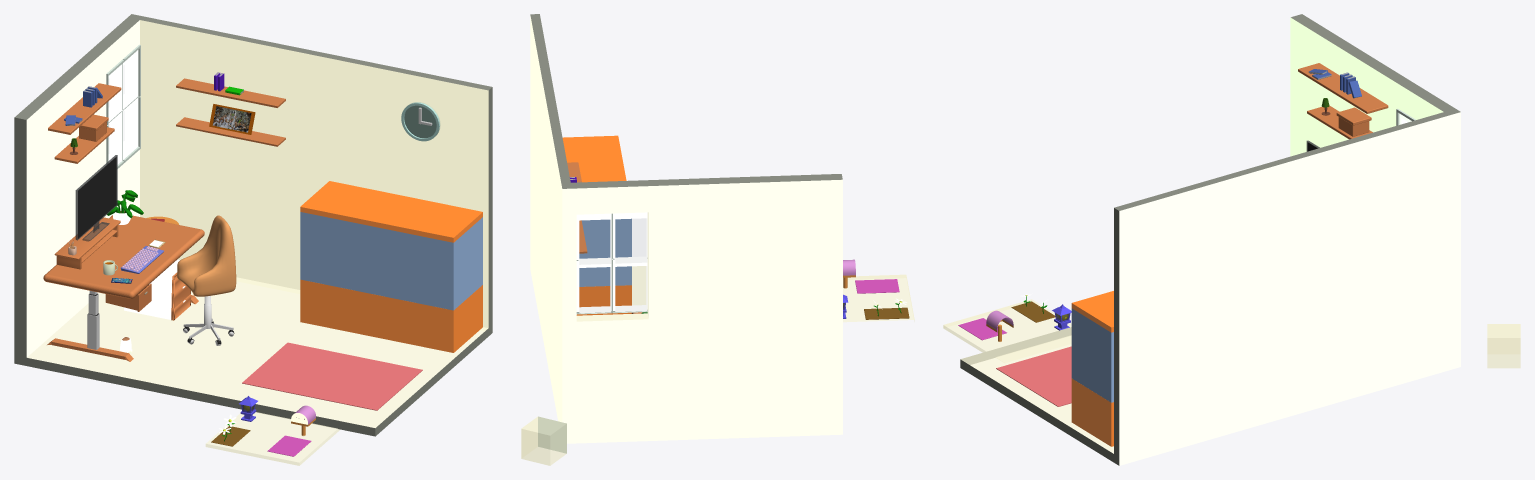
The model's file is FinalFinalRoom1.glb.
3 renders of one model, left to right at view 1: azimuth 30°, elevation 25°; view 2: azimuth 150°, elevation 25°; view 3: azimuth 270°, elevation 25°, orthographic. The views are drawn at different scales.
Visible parts, largest first — view 1: Wall, Aquarium box, Aquarium water, Floor items, Desks, Shlefs, Extra Floor, Desk stuff, Chair sit, computer screen, Clock, Ground; view 2: Wall, Aquarium box, Aquarium water, Extra Floor, Cube, Ground, Shlefs; view 3: Wall, Extra Floor, Shlefs, Aquarium water, Aquarium box, Floor items, Cube, Ground.
Part boxes in pixels (left/top/right/bottom): Wall: left=14, top=14, right=492, bottom=436; Aquarium box: left=300, top=181, right=482, bottom=352; Aquarium water: left=300, top=212, right=482, bottom=310; Floor items: left=120, top=259, right=422, bottom=410; Desks: left=43, top=215, right=204, bottom=361; Shlefs: left=48, top=72, right=285, bottom=163; Extra Floor: left=205, top=396, right=340, bottom=465; Desk stuff: left=54, top=190, right=165, bottom=283; Chair sit: left=177, top=215, right=236, bottom=296; computer screen: left=75, top=155, right=117, bottom=241; Clock: left=401, top=102, right=440, bottom=141; Ground: left=211, top=426, right=311, bottom=456; Wall: left=530, top=14, right=842, bottom=443; Aquarium box: left=562, top=135, right=631, bottom=315; Aquarium water: left=579, top=218, right=631, bottom=286; Extra Floor: left=843, top=274, right=914, bottom=322; Cube: left=521, top=416, right=566, bottom=465; Ground: left=855, top=279, right=909, bottom=319; Shlefs: left=567, top=162, right=587, bottom=253; Wall: left=960, top=14, right=1460, bottom=465; Extra Floor: left=943, top=293, right=1071, bottom=362; Shlefs: left=1298, top=63, right=1388, bottom=139; Aquarium water: left=1071, top=308, right=1113, bottom=402; Aquarium box: left=1071, top=291, right=1113, bottom=446; Floor items: left=996, top=346, right=1071, bottom=406; Cube: left=1487, top=324, right=1520, bottom=368; Ground: left=958, top=301, right=1055, bottom=340.
Bounding box in the file's own units: 15.58 × 9.5 × 19.29.
56 materials, 2 textured.
